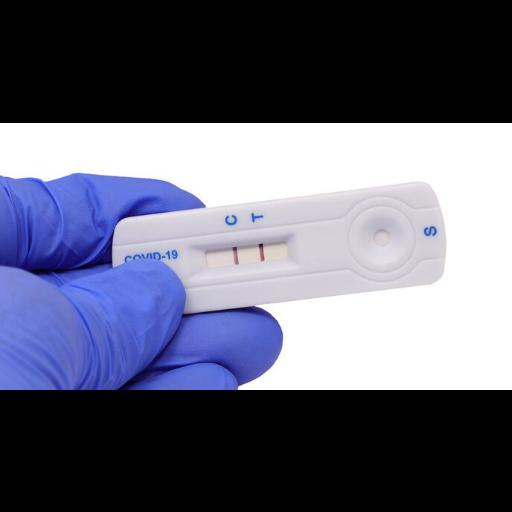Pos: (105, 176, 455, 323)
